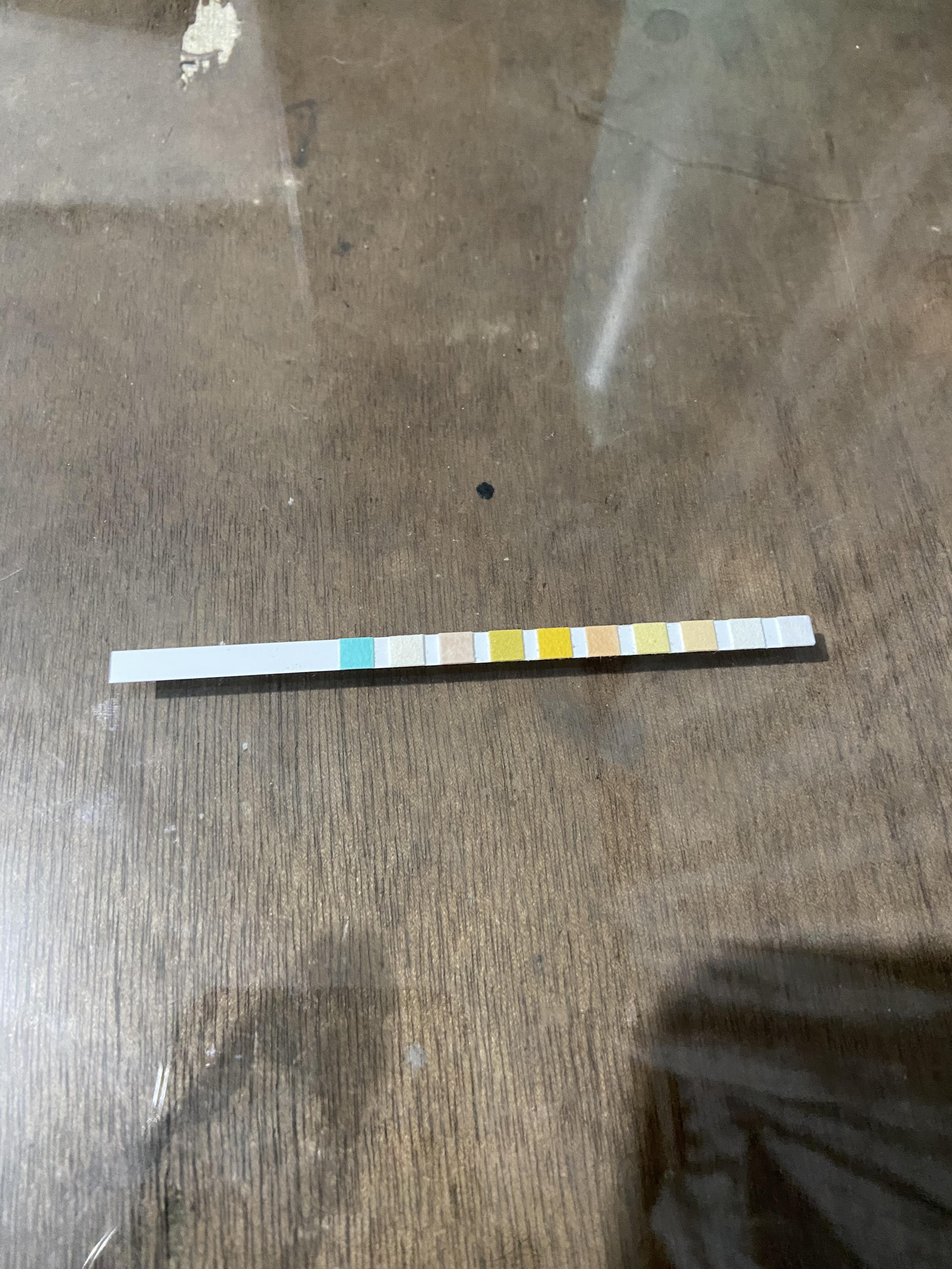Bilirubin: (390, 636, 423, 664)
Blood: (539, 629, 570, 658)
Glucose: (340, 640, 373, 667)
Ketone: (439, 634, 473, 662)
Leukocytes: (782, 617, 809, 645)
Nitrite: (732, 620, 762, 648)
Protein: (636, 624, 665, 652)
SpGravity: (490, 632, 523, 660)
Urobilinogen: (685, 622, 714, 651)
pH: (588, 628, 619, 655)
strip: (109, 615, 817, 684)
